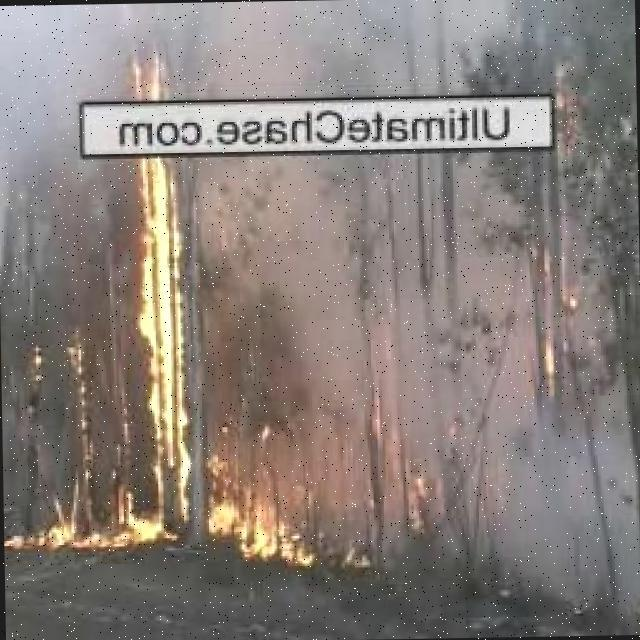Fire: (134, 44, 185, 543), (218, 500, 297, 565), (12, 502, 82, 552)
